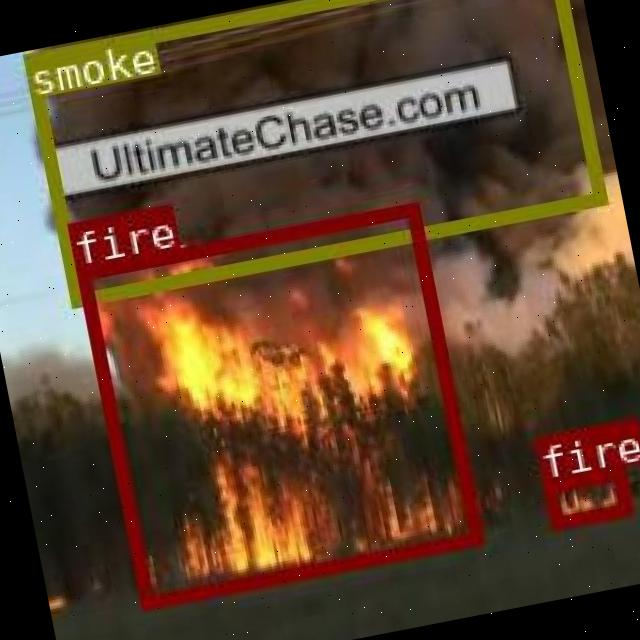fire: (76, 201, 482, 608), (540, 464, 630, 530)
smoke: (21, 0, 603, 304)
